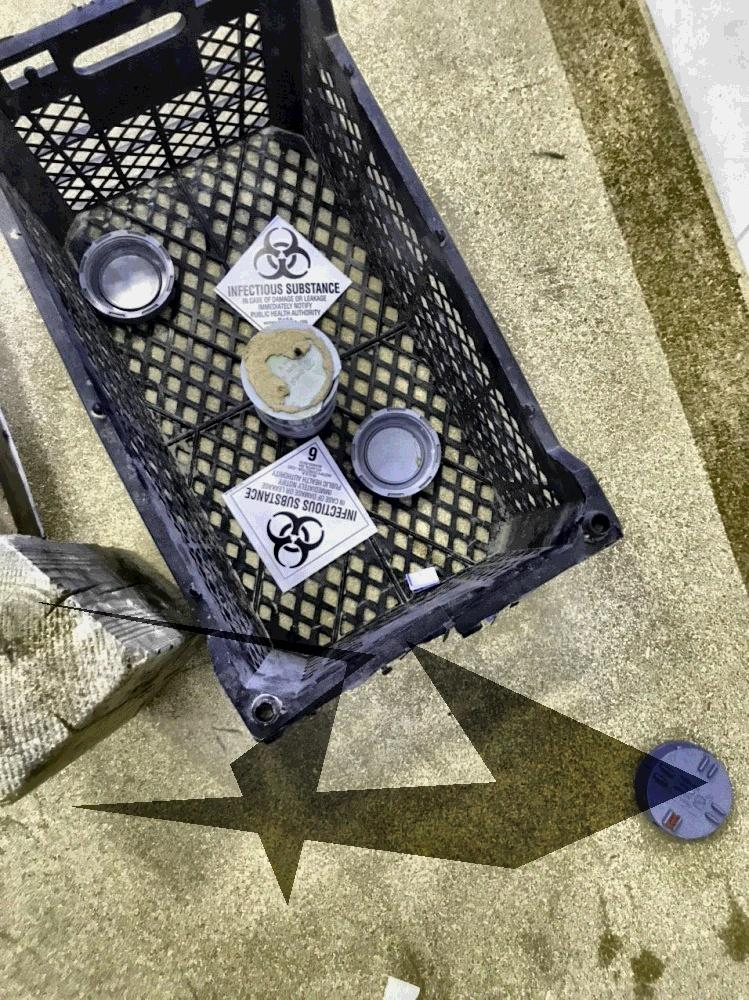infectious-substance: (223, 436, 375, 593), (212, 213, 351, 335)
